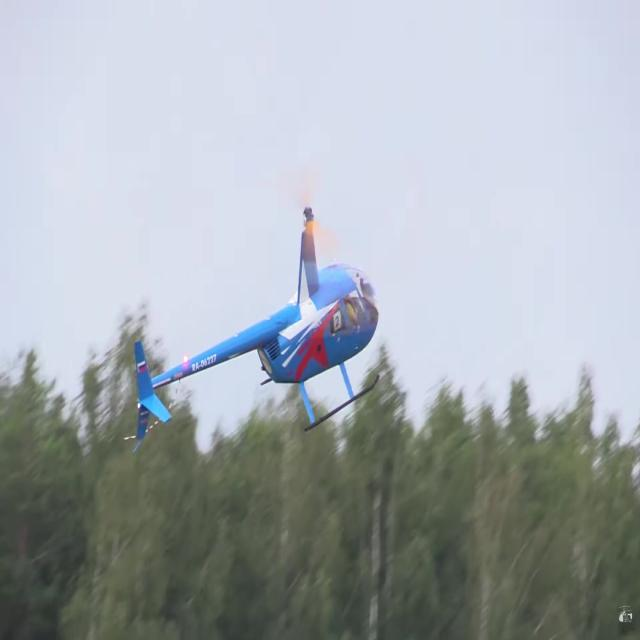CIV_HELO: (131, 202, 380, 443)
